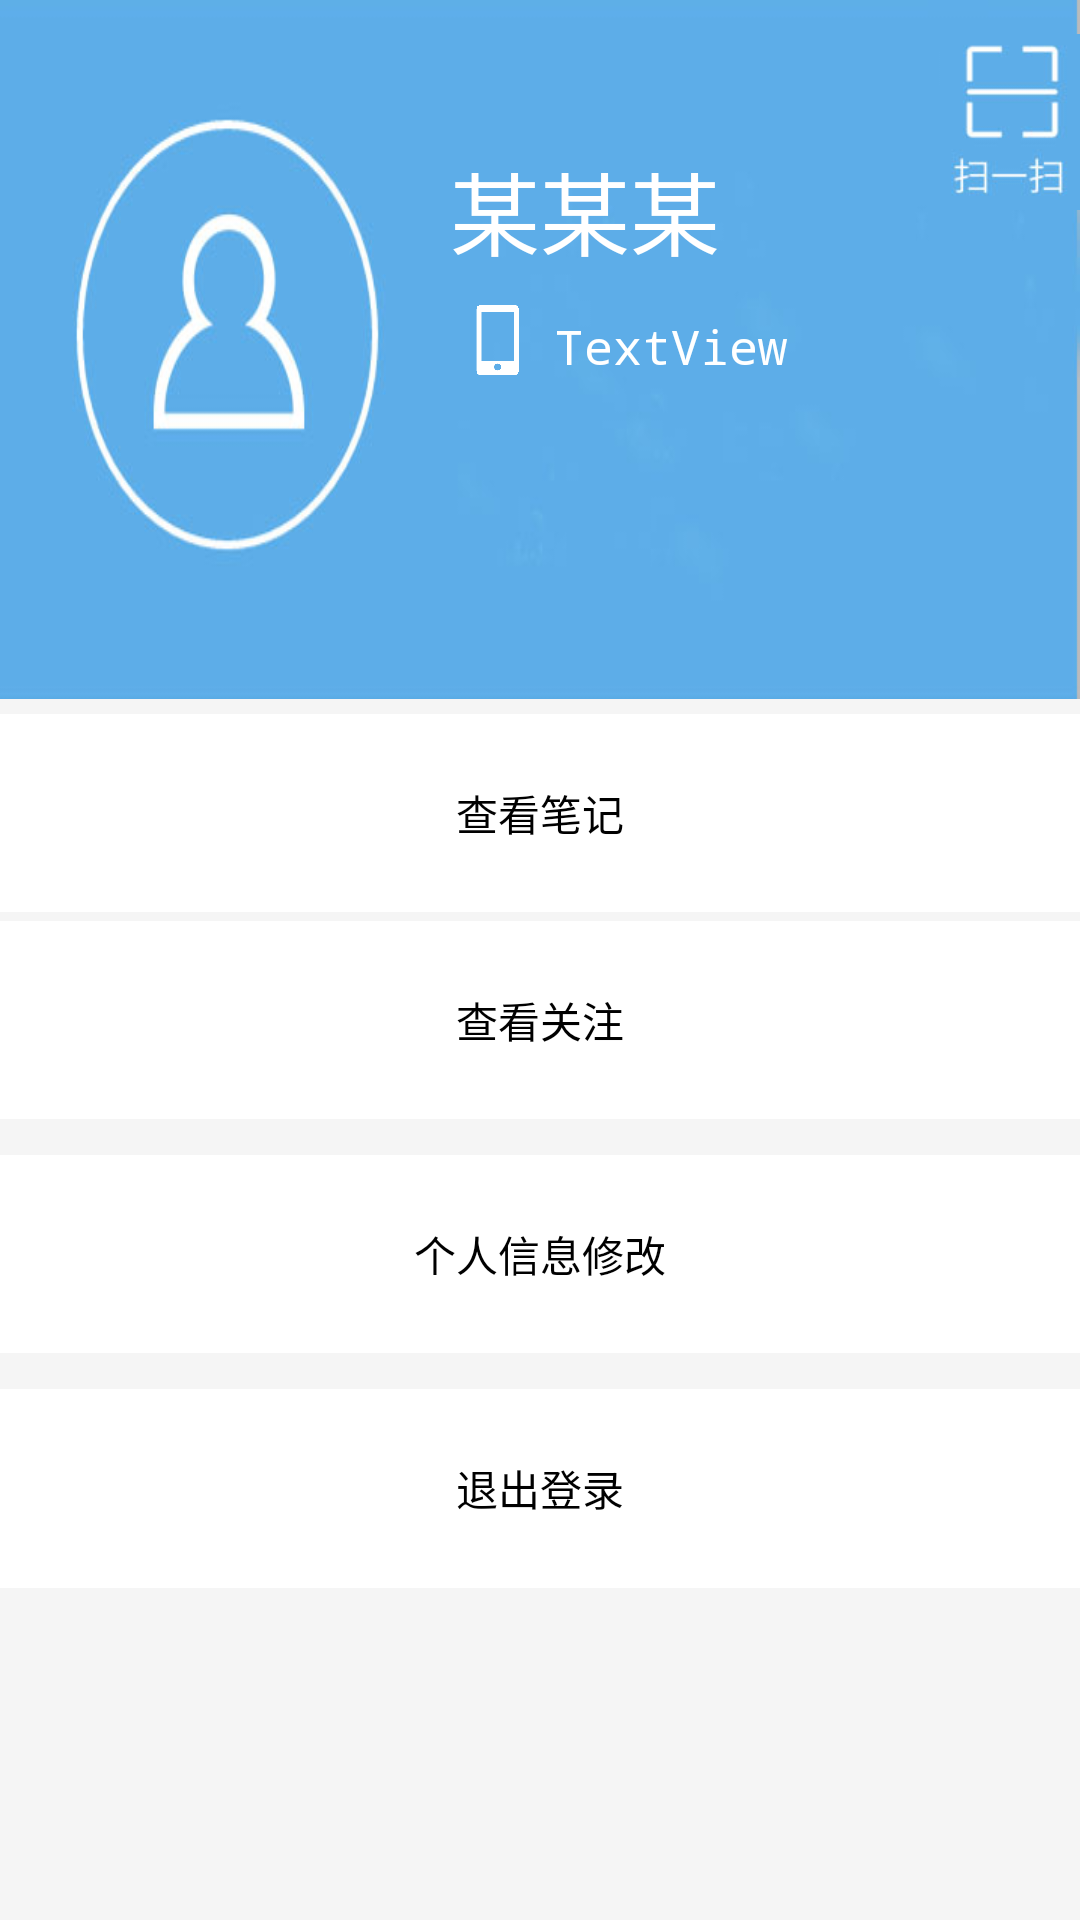

Point at icon controls on the screen. Image size 1080px x 1920px, points as point (x, y).
phone: point (497, 340)
